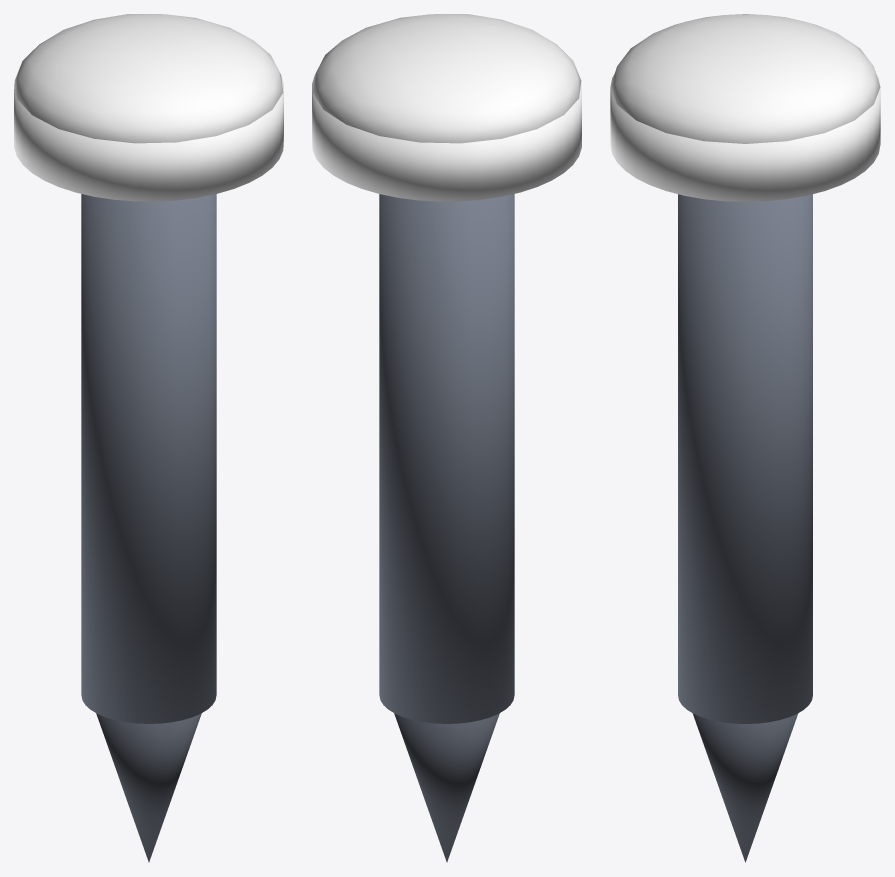
Rendered from small-nail.obj.
3 views of the same model, side by side, from view 1: azimuth 30°, elevation 25°; view 2: azimuth 150°, elevation 25°; view 3: azimuth 270°, elevation 25° (orthographic).
Parts seen in each view (by area): view 1: small-nail; view 2: small-nail; view 3: small-nail.
Part boxes in pixels (x1,y1,x2,y2): small-nail: (14, 14, 283, 862); small-nail: (312, 14, 581, 862); small-nail: (610, 14, 880, 862).
Size of the model in its own units: 0.038 by 0.1277 by 0.038.
